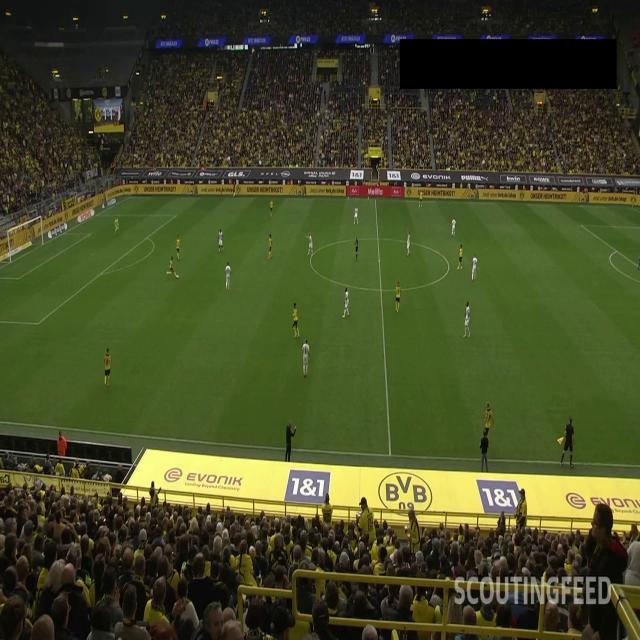Ball: (176, 273, 179, 280)
GoalKeeper: (114, 217, 120, 235)
Referee: (556, 419, 574, 470), (355, 237, 359, 262), (232, 181, 236, 199)
TEAM 1: (484, 402, 496, 446), (102, 350, 111, 387), (292, 303, 300, 338), (394, 282, 402, 315), (166, 256, 177, 278), (267, 233, 273, 260), (457, 244, 463, 271), (268, 200, 274, 218), (176, 236, 180, 261), (419, 190, 424, 208)
TEAM 2: (301, 339, 311, 376), (463, 302, 471, 339), (342, 288, 351, 318), (305, 232, 314, 258), (471, 255, 479, 282), (225, 262, 231, 290), (406, 230, 411, 258), (218, 229, 224, 252), (450, 218, 456, 238), (354, 205, 359, 225)
